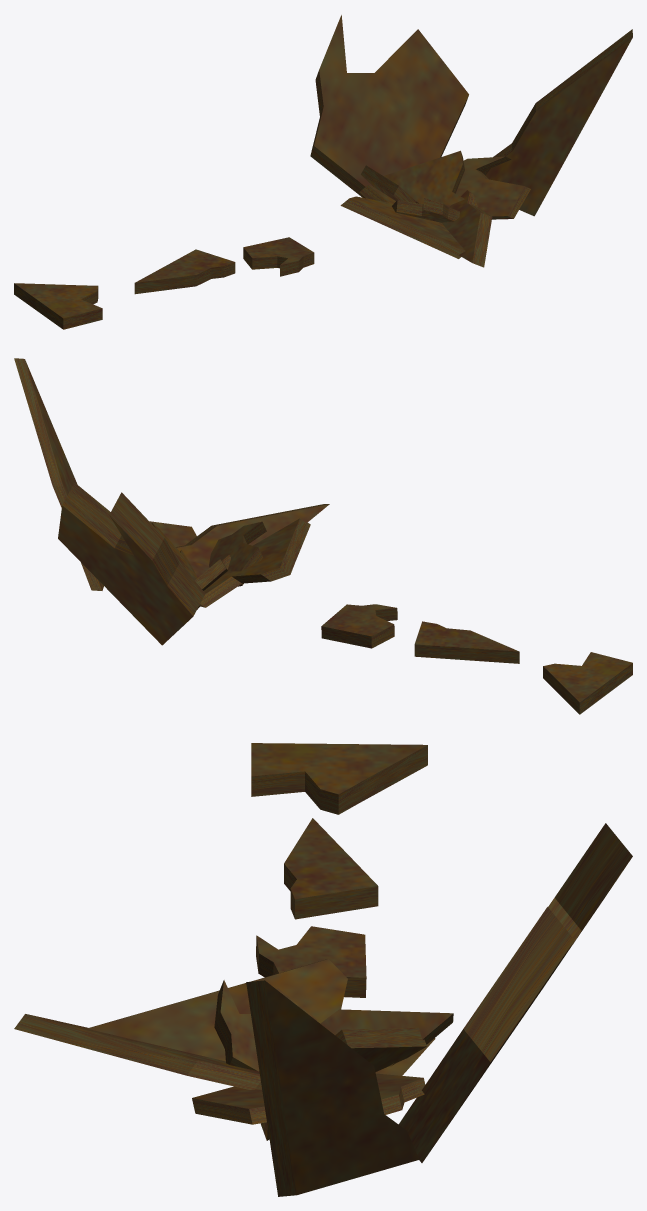
File: broken ground.fbx
3 renders of one model, top to bottom at view 1: azimuth 30°, elevation 25°; view 2: azimuth 150°, elevation 25°; view 3: azimuth 270°, elevation 25°, orthographic. The views are drawn at different scales.
Visible parts, largest first — view 1: ForSpear, Broke1, Broken2, Broken3; view 2: ForSpear, Broke1, Broken2, Broken3; view 3: ForSpear, Broke1, Broken2, Broken3.
Part boxes in pixels (left/top/right/bottom): ForSpear: left=310, top=15, right=632, bottom=267; Broke1: left=14, top=283, right=102, bottom=329; Broken2: left=134, top=249, right=235, bottom=294; Broken3: left=243, top=237, right=314, bottom=276; ForSpear: left=14, top=358, right=329, bottom=645; Broke1: left=543, top=652, right=632, bottom=714; Broken2: left=414, top=621, right=519, bottom=663; Broken3: left=321, top=604, right=397, bottom=648; ForSpear: left=14, top=823, right=632, bottom=1196; Broke1: left=251, top=743, right=427, bottom=814; Broken2: left=284, top=818, right=378, bottom=919; Broken3: left=256, top=926, right=366, bottom=997.
Size of the model in its own units: 4.54 by 1.45 by 2.38.
